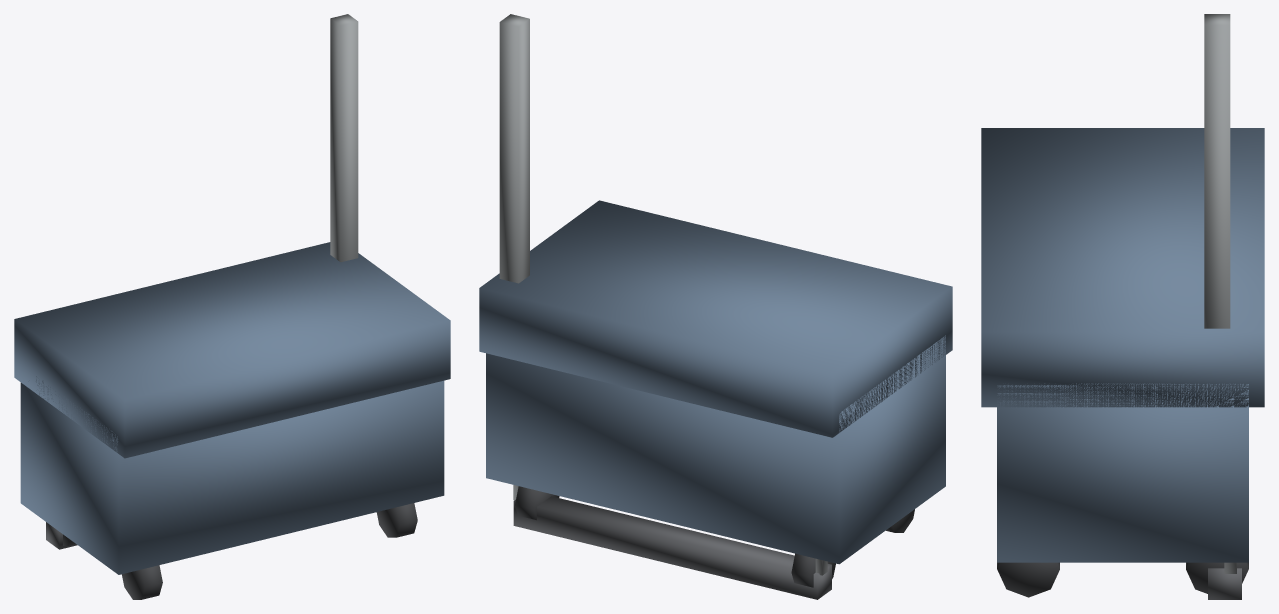
The model's file is cleaning_cart__reinforced.glb.
The picture shows the model from 3 angles, left to right: view 1: azimuth 30°, elevation 25°; view 2: azimuth 150°, elevation 25°; view 3: azimuth 270°, elevation 25°; orthographic projection. The views are drawn at different scales.
Visible parts, largest first — view 1: world; view 2: world; view 3: world.
Part boxes in pixels (left/top/right/bottom): world: left=14, top=14, right=450, bottom=599; world: left=479, top=14, right=952, bottom=599; world: left=981, top=14, right=1264, bottom=599.
Size of the model in its own units: 0.9476 by 1.27 by 0.5562.
